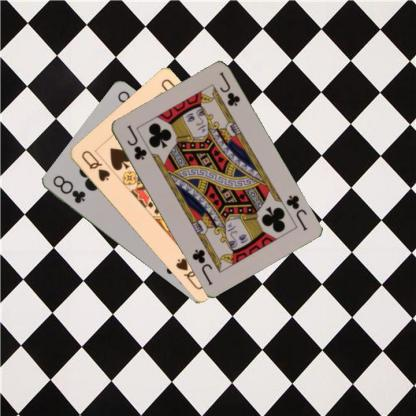8c: (50, 173, 86, 205)
Jc: (282, 192, 308, 232), (124, 123, 148, 161)
Qs: (78, 147, 112, 182)
